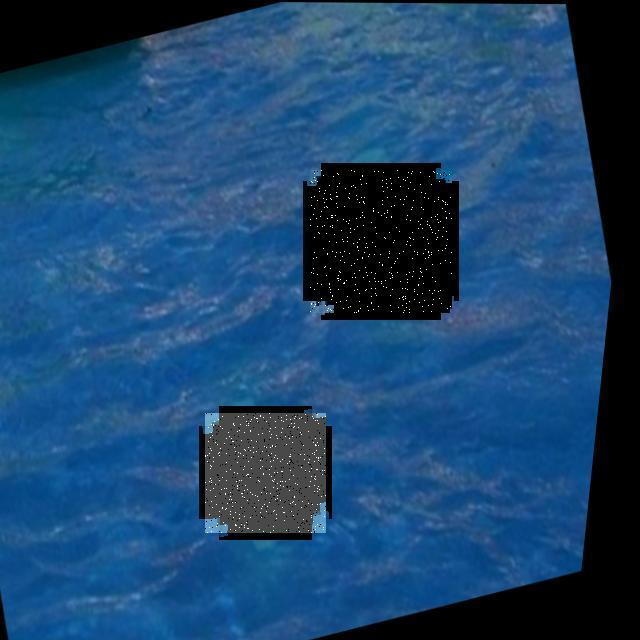swimming: (310, 170, 452, 313), (205, 413, 326, 533)
